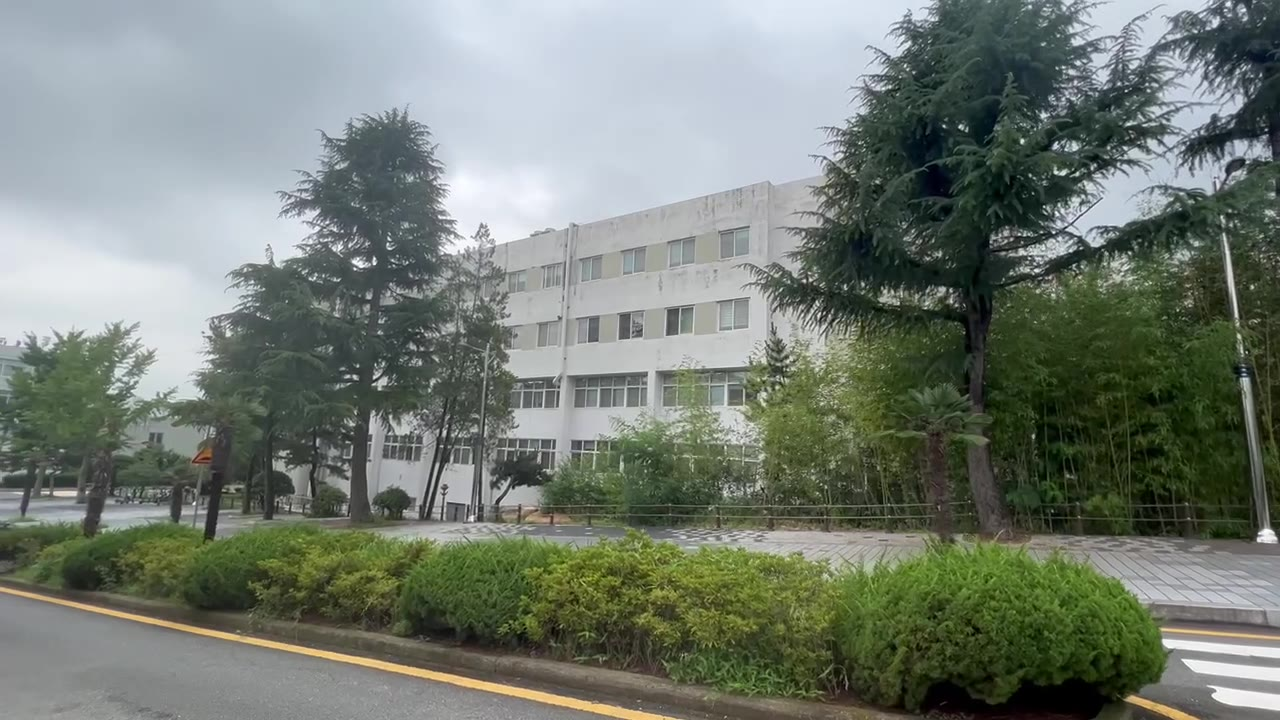low: (516, 192, 764, 430)
